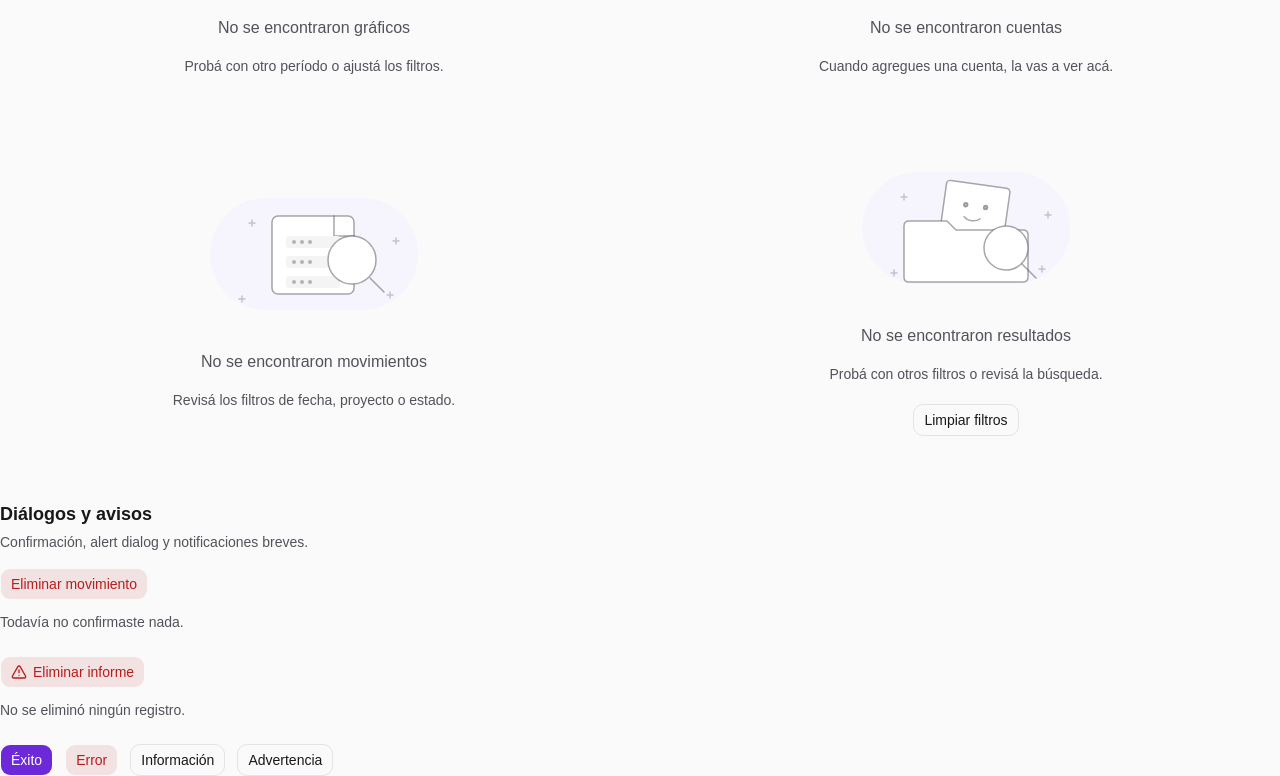
Test: UiGalleryPage › confirma o cancela el AlertDialog sin ejecutar accidentalmente la acción
(page scrolled)
Click the button "Eliminar informe".
click(73, 672)  # box [0, 656, 145, 688]
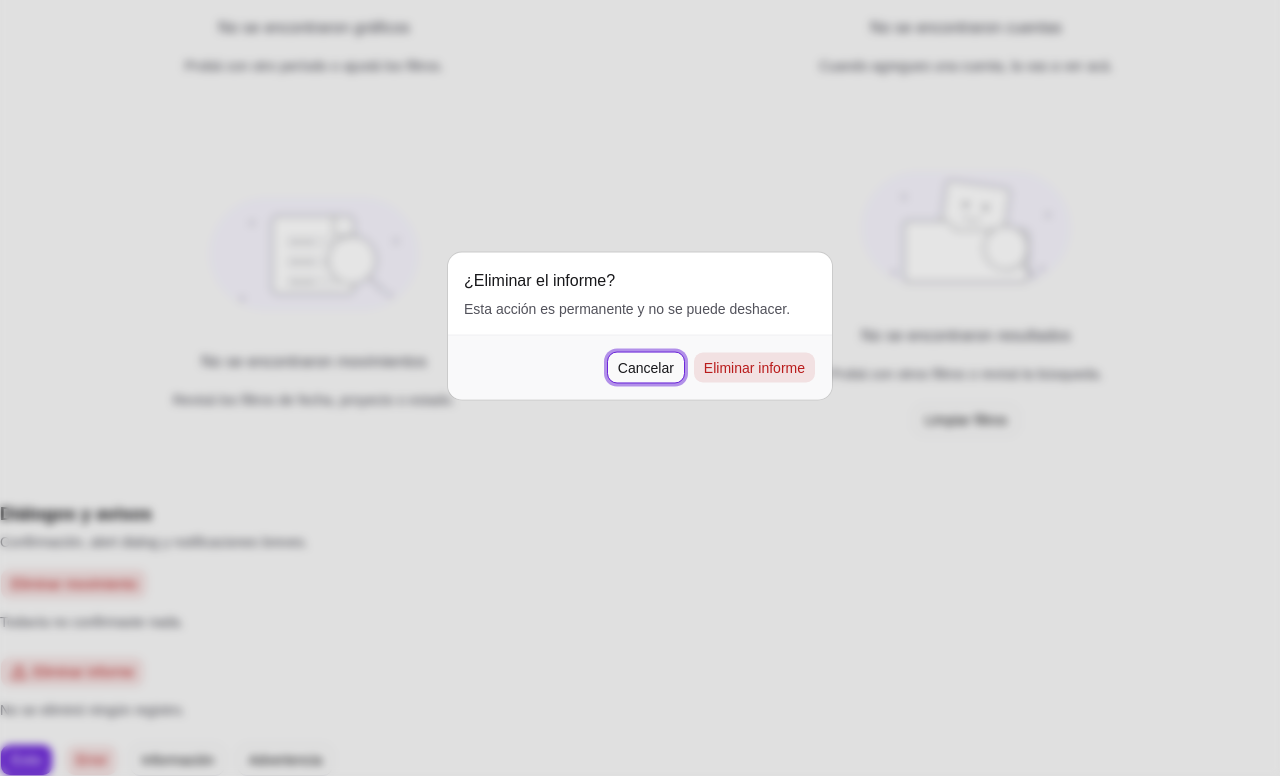
Click the button "Cancelar".
click(646, 368)  # box [607, 352, 685, 384]
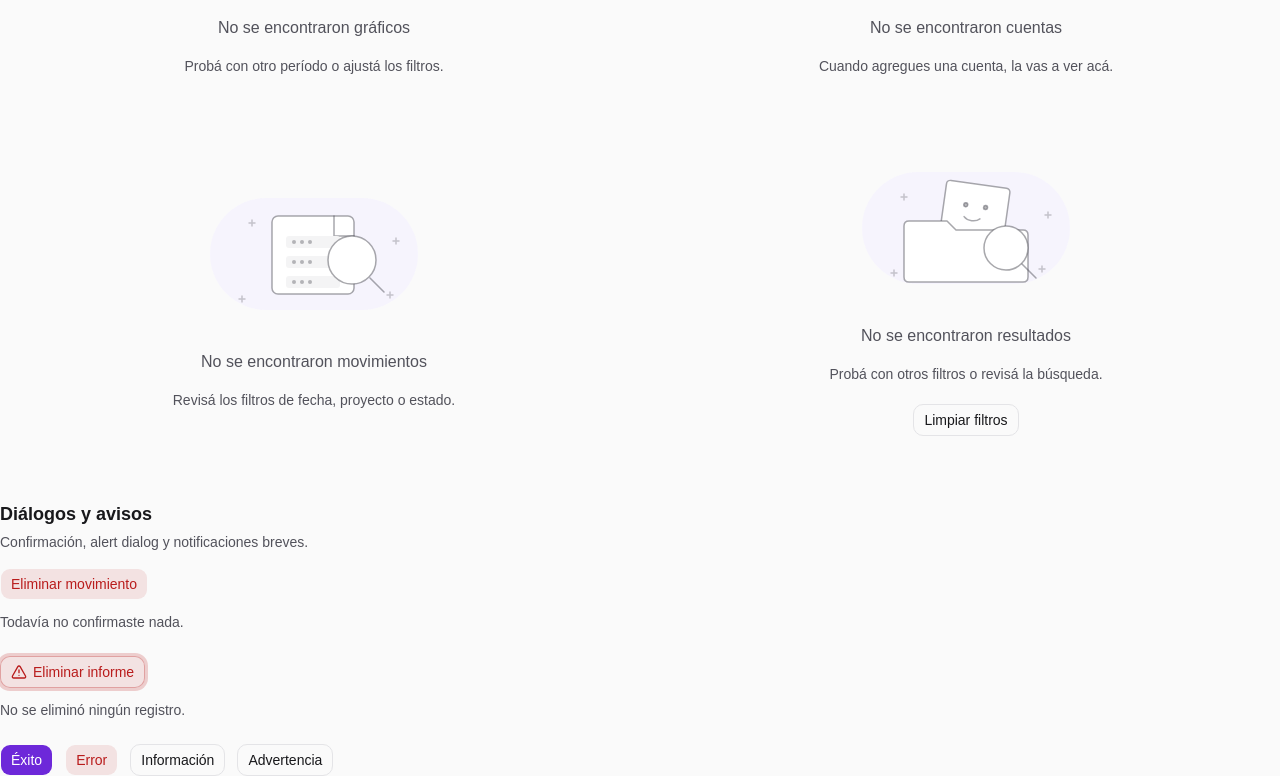
Expected: the text "No se eliminó ningún registro." is shown, [0, 702, 185, 718]
Expected: the dialog is gone
Click the button "Eliminar informe".
click(73, 672)  # box [0, 656, 145, 688]
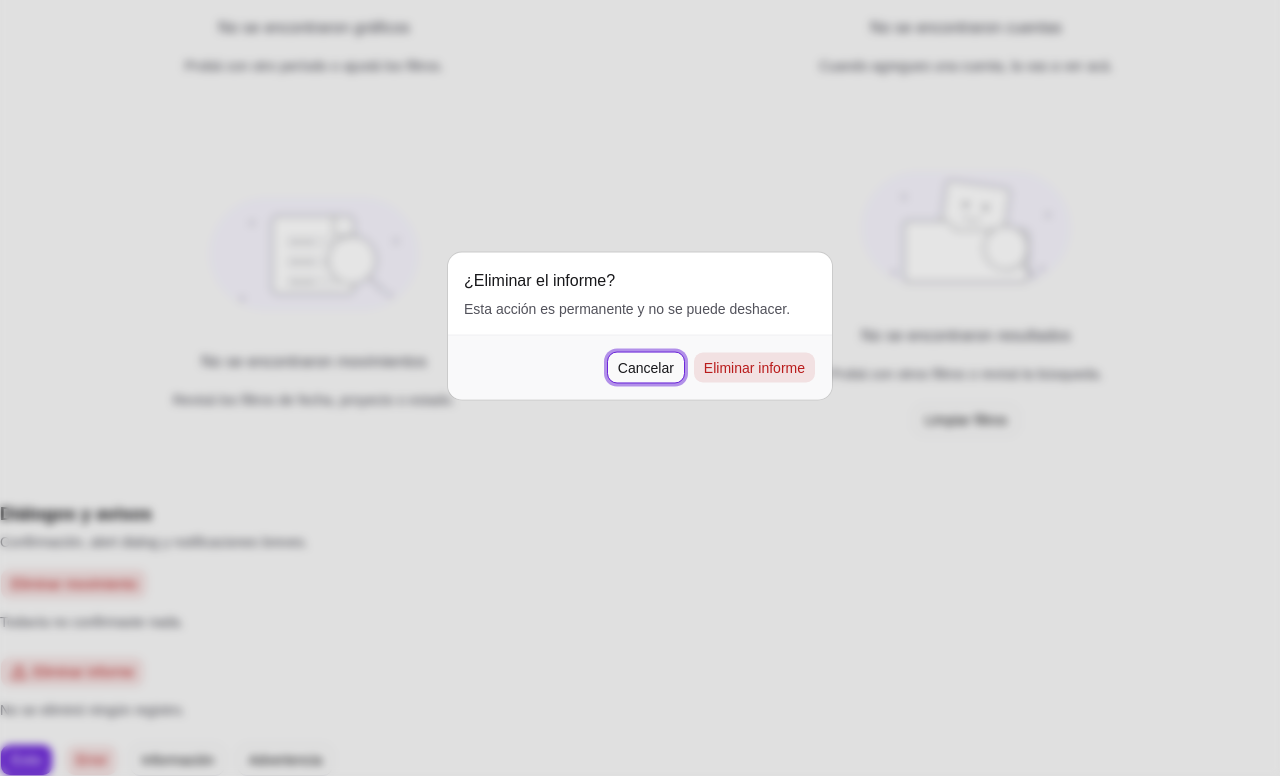
Click the button "Eliminar informe".
click(754, 368)  # box [693, 352, 816, 384]
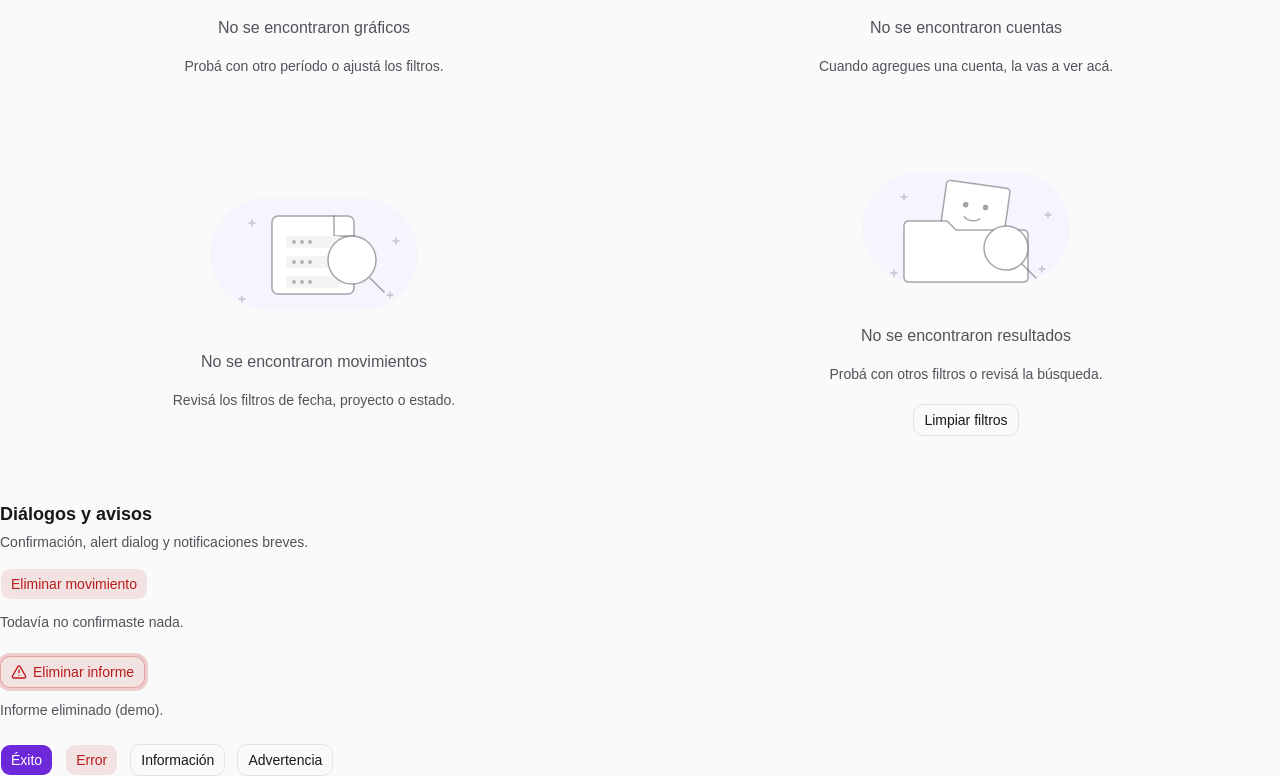
Expected: the text "Informe eliminado (demo)." is shown, [0, 702, 163, 718]
Expected: the dialog is gone
